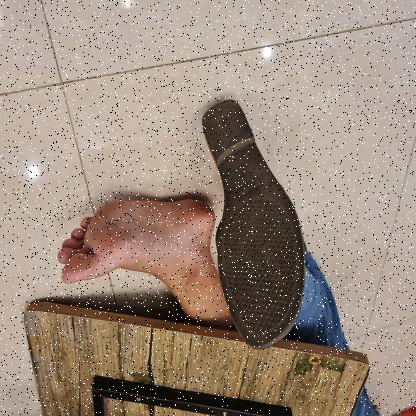leg: (54, 190, 230, 330)
